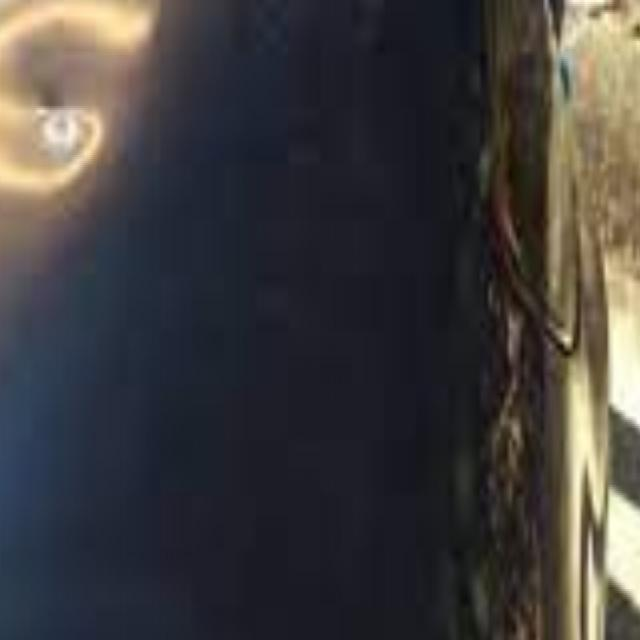dents: (3, 17, 121, 218)
